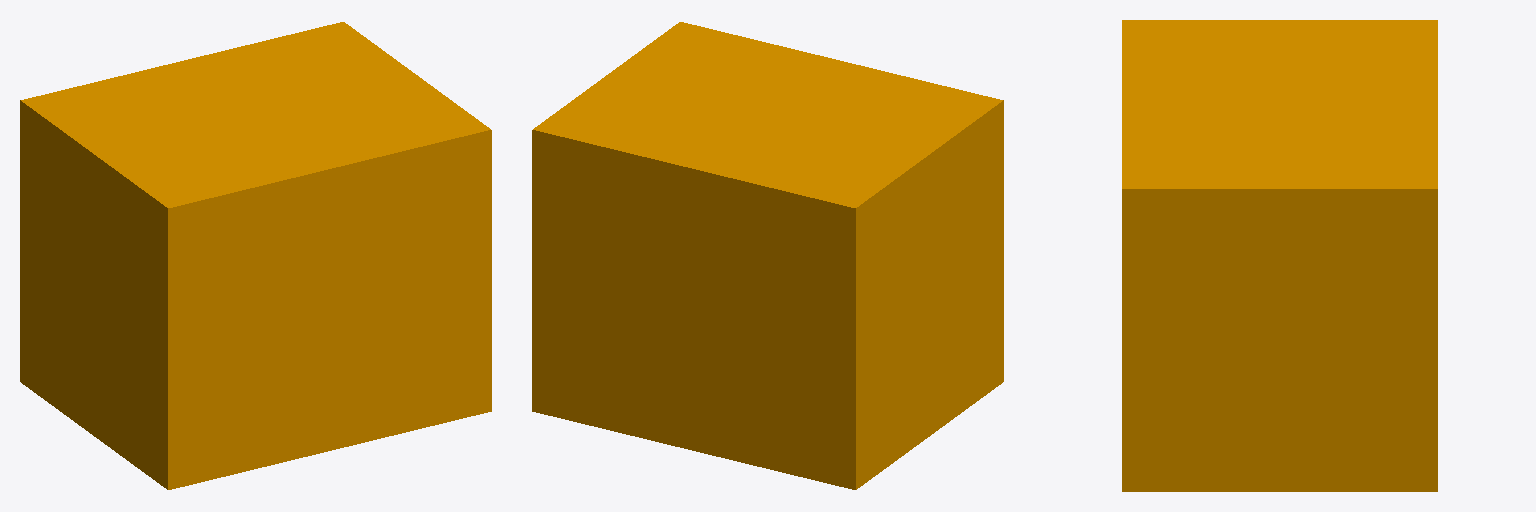
The robot description file, URDF, robot "object":
<robot name="object">
  <link name="object">
    <visual>
      <origin xyz="0 0 0" />
      <geometry>
        <box size="0.09600000000000003 0.07600000000000001 0.08" />
      </geometry>
    </visual>

    <collision>
      <origin xyz="0 0 0" />
      <geometry>
        <box size="0.09600000000000003 0.07600000000000001 0.08" />
      </geometry>
    </collision>

    <inertial>
      <mass value="0.05" />
      <inertia ixx="0.0001" ixy="0.0" ixz="0.0" iyy="0.0001" iyz="0.0" izz="0.0001" />
    </inertial>
  </link>
</robot>

--- Facts derived from the render (not from the file) ---
3 views of the same robot in one strip: view 1: azimuth 30°, elevation 25°; view 2: azimuth 150°, elevation 25°; view 3: azimuth 270°, elevation 25° (orthographic).
Robot: object — 1 links, 0 joints (none); root link object; default pose: all joints at 0.
Visible links, largest first — view 1: object; view 2: object; view 3: object.
Boxes of the visible links, x1,y1,x2,y2 form: object: (20, 22, 491, 489); object: (532, 22, 1003, 489); object: (1122, 20, 1437, 491).
Bounding box of the posed robot: 0.096 × 0.076 × 0.08 m (x, y, z).
Geometry: primitives only (box / cylinder / sphere), no mesh files.